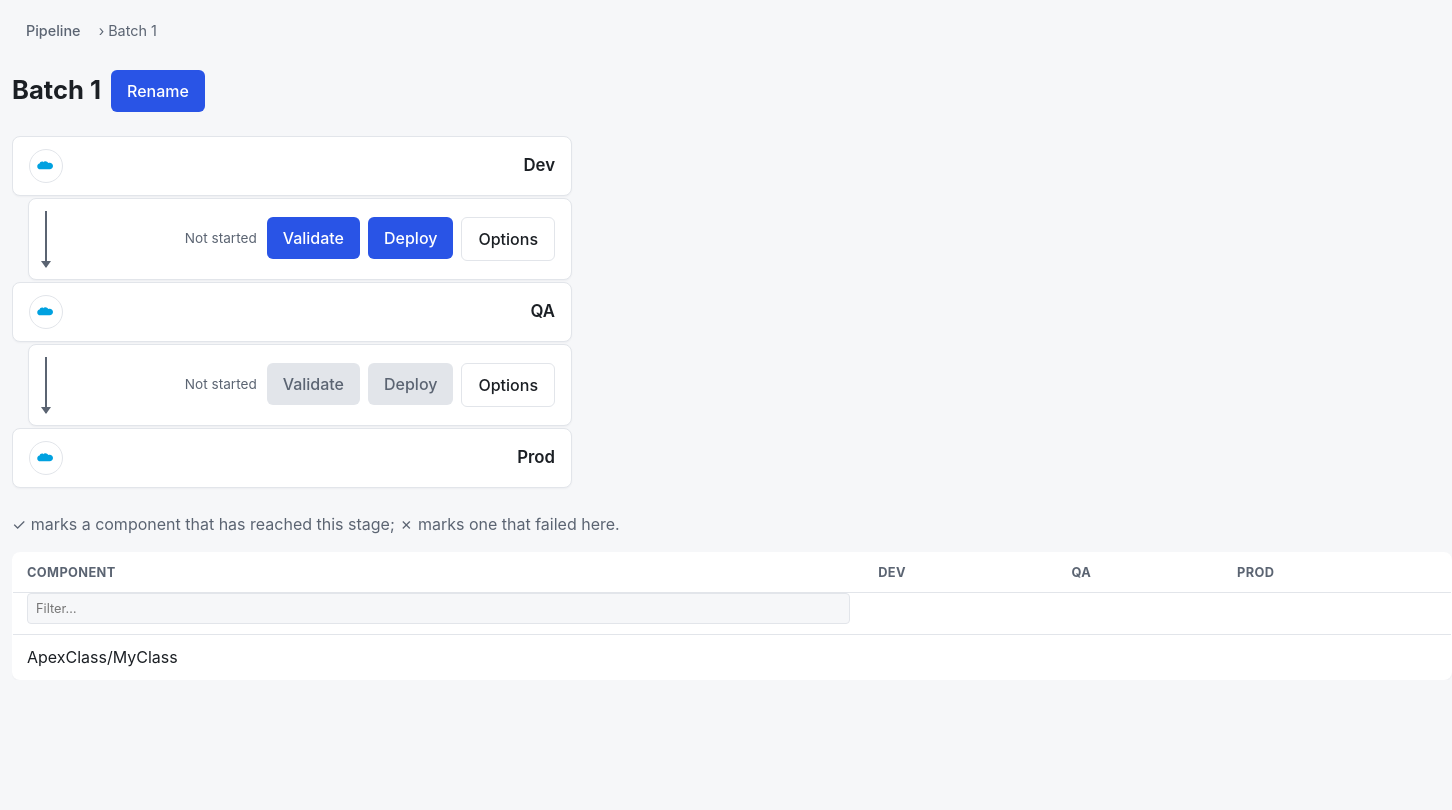
Test: PipelineRunDetail page › editable run title › renames the run and shows the new title
Expected: the heading "Batch 1" is shown, [12, 71, 101, 110]
Click the button "Rename": [158, 91] box [111, 70, 205, 112]
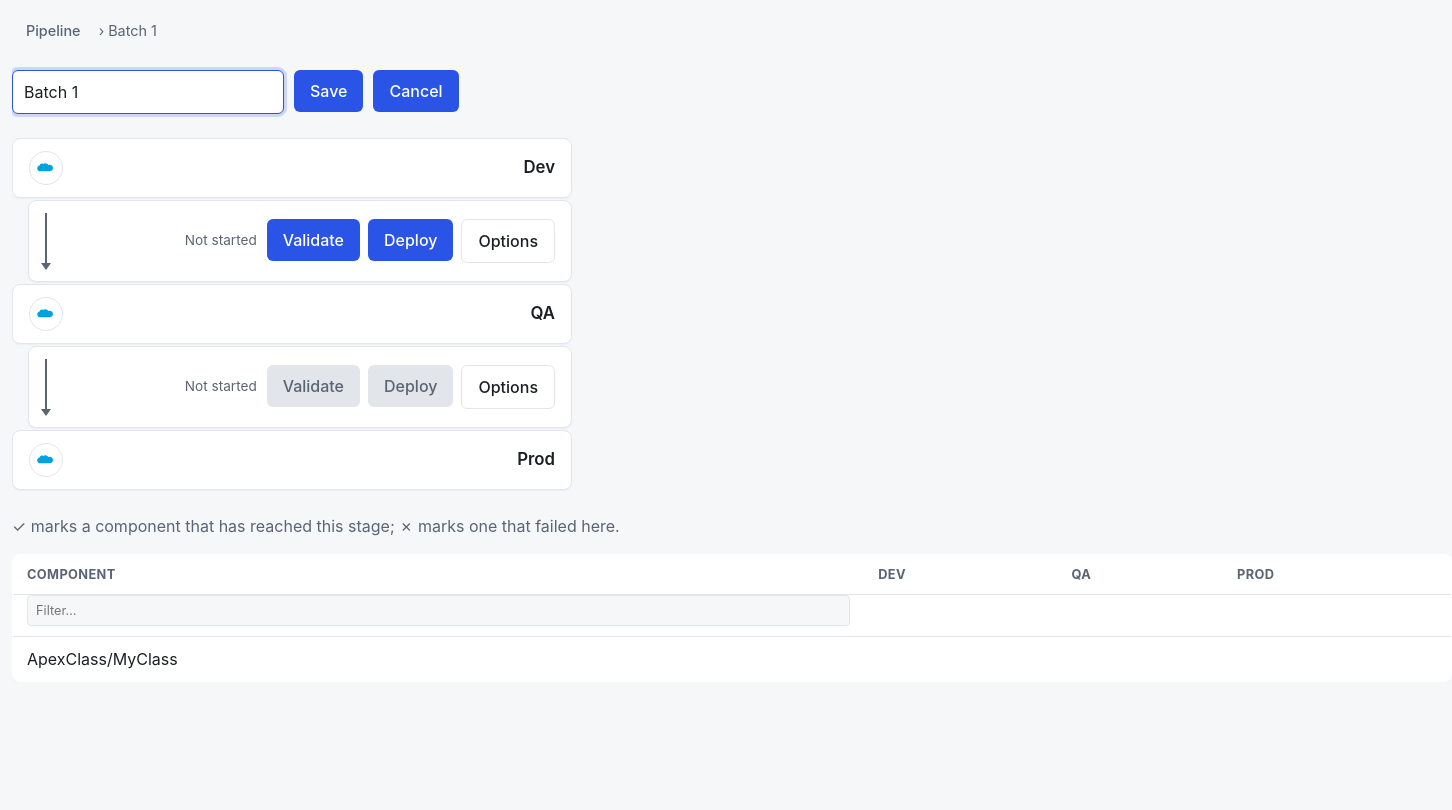
Replace the text in the field named "run title" with "Renamed batch": [148, 92] box [12, 70, 284, 114]
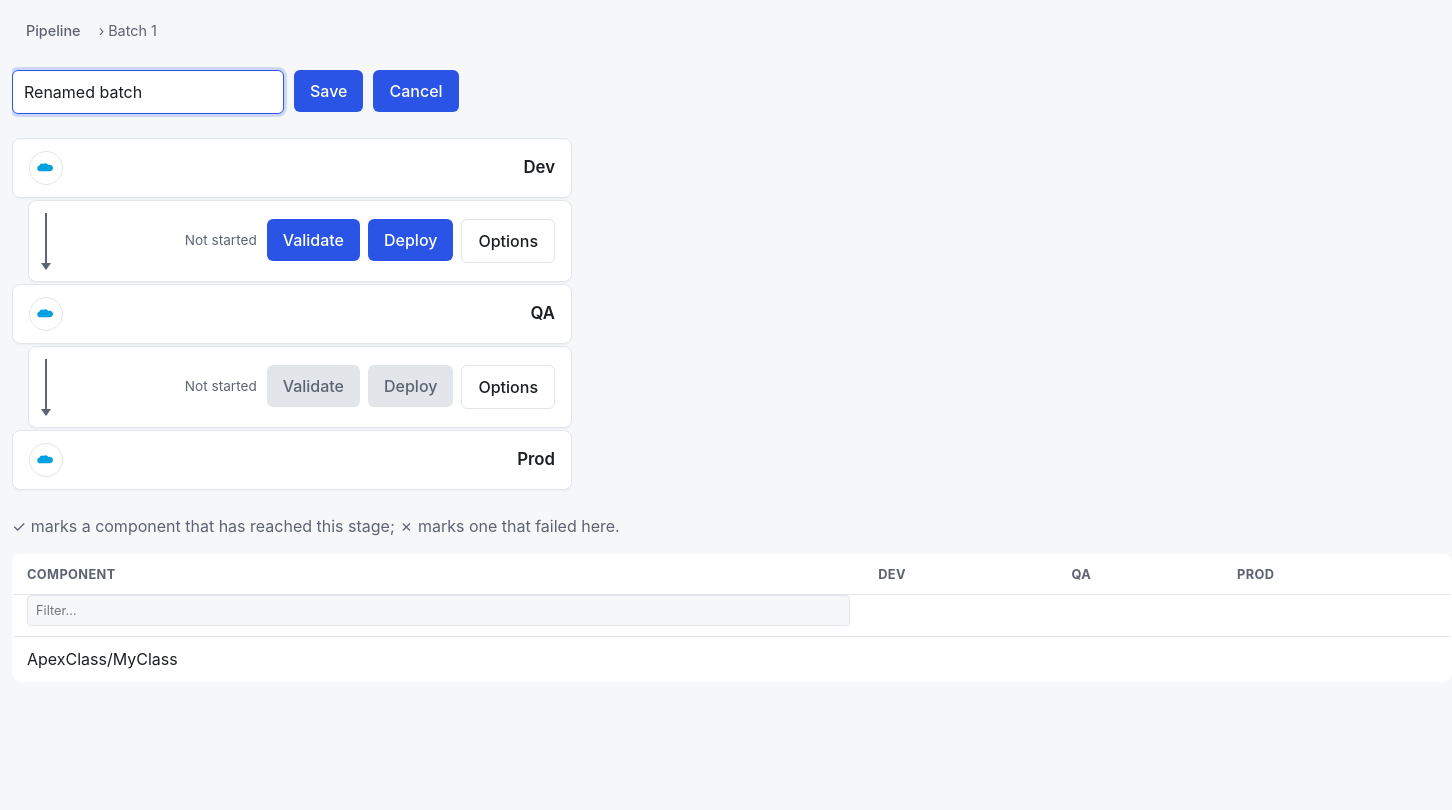
Click the button "Save": [329, 91] box [294, 70, 364, 112]
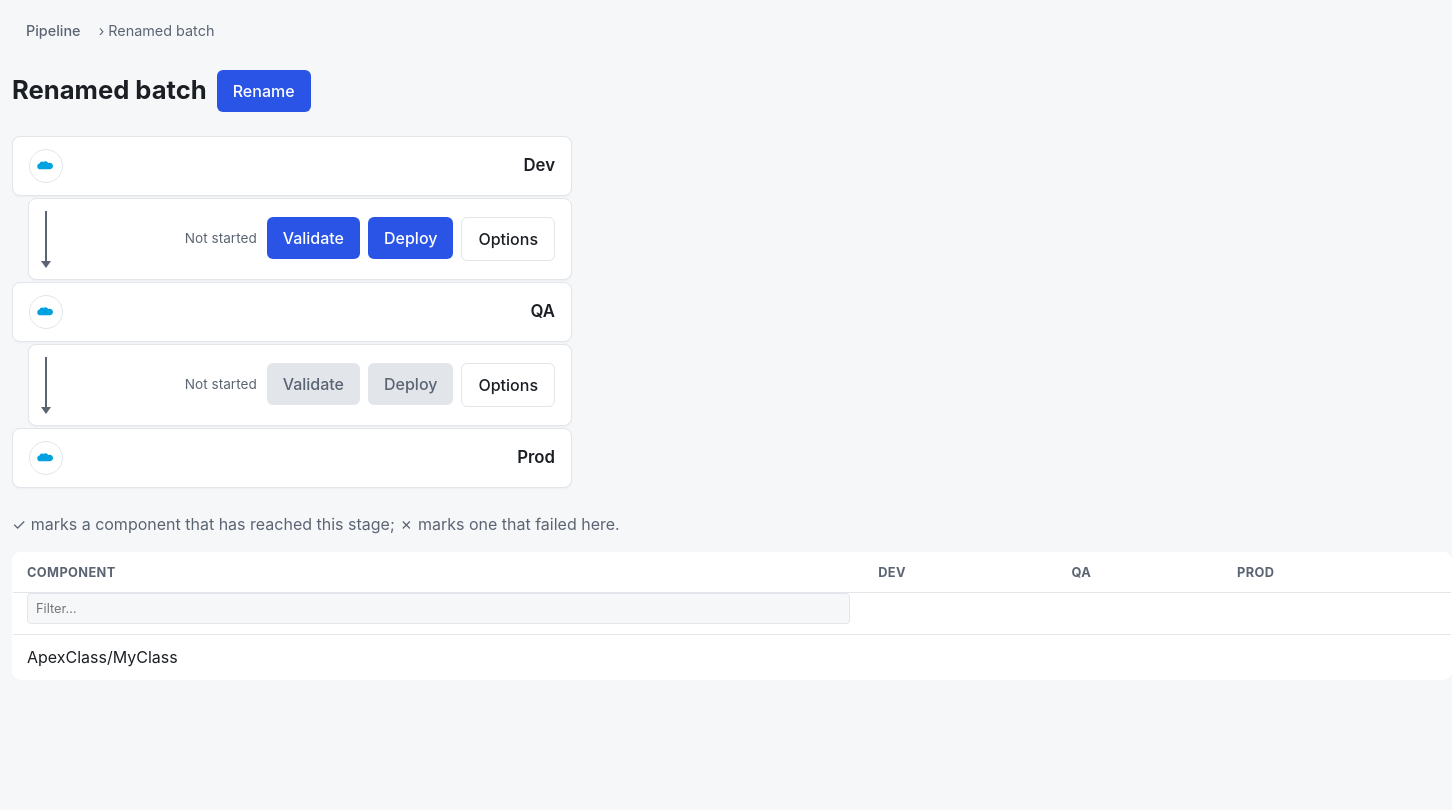
Now the heading "Renamed batch" is shown, box [12, 71, 207, 110]
